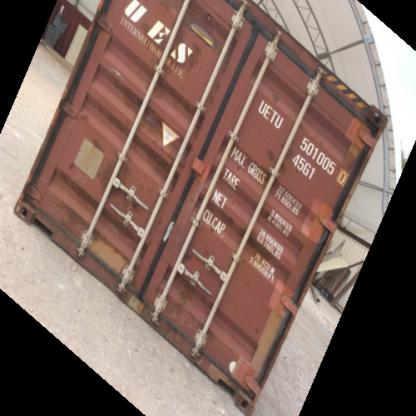Damage: (77, 228, 131, 278), (115, 87, 169, 136), (150, 30, 201, 68), (265, 137, 296, 191)
